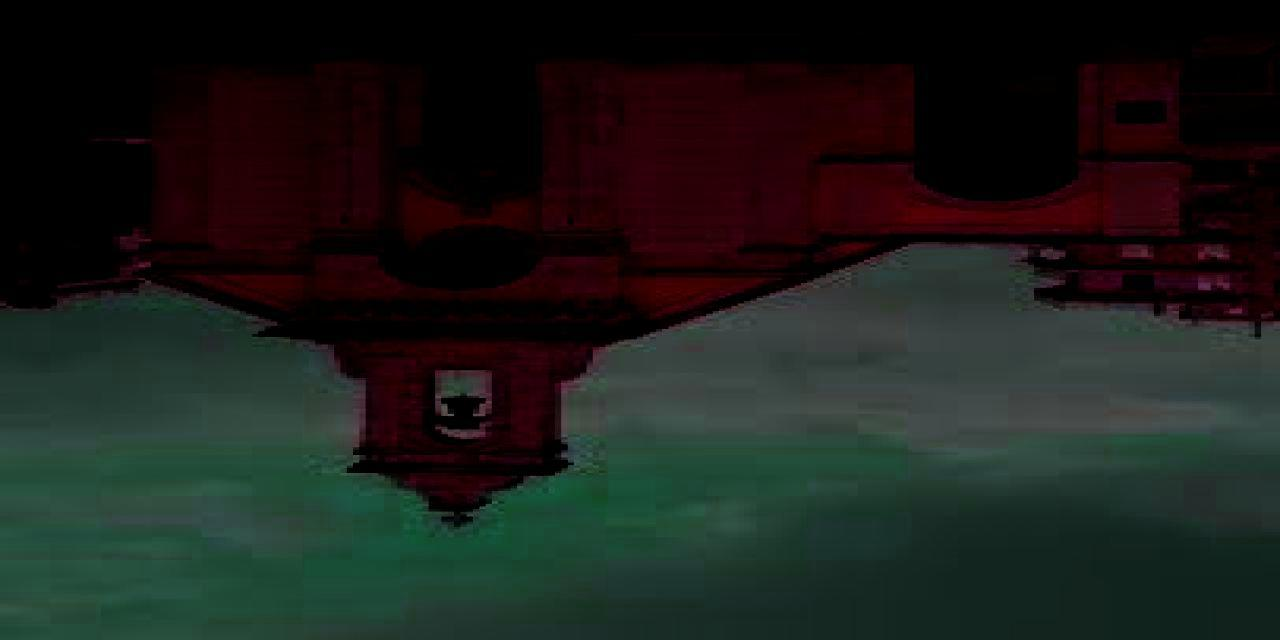Agios Minas: (135, 48, 1193, 542)
